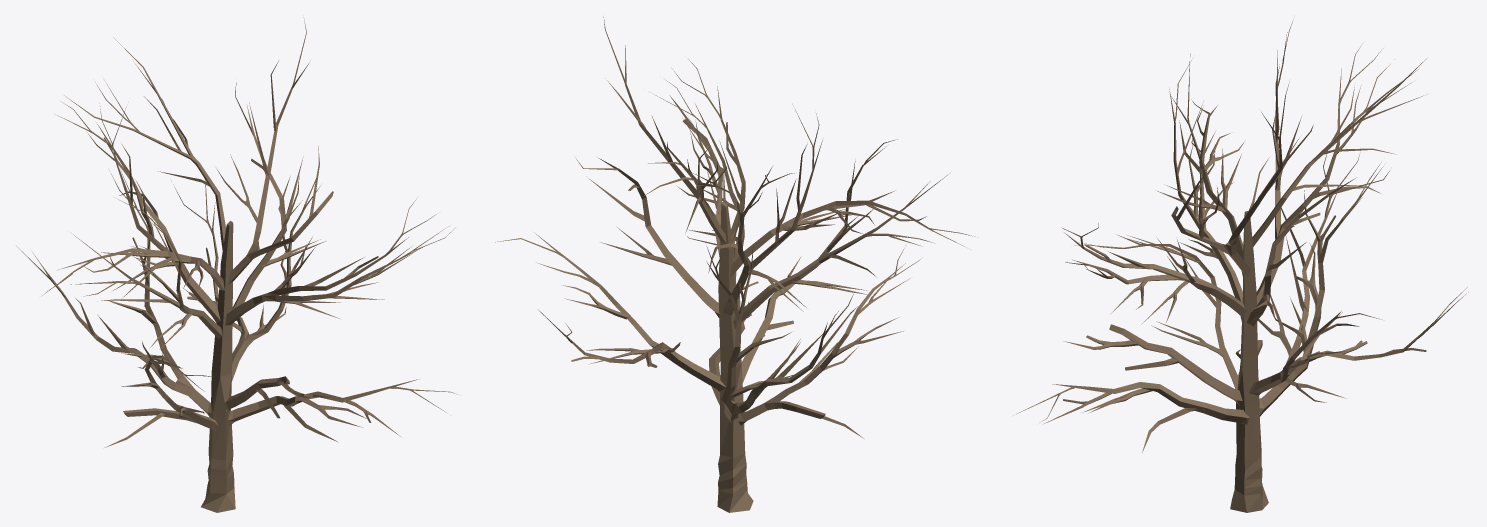
The model's file is tree_bare_a_1.FBX.
The picture shows the model from 3 angles, left to right: view 1: azimuth 30°, elevation 25°; view 2: azimuth 150°, elevation 25°; view 3: azimuth 270°, elevation 25°; orthographic projection. The views are drawn at different scales.
Parts seen in each view (by area): view 1: tree_bare_a_1; view 2: tree_bare_a_1; view 3: tree_bare_a_1.
Boxes of the visible parts, box(x1,y1,x2,y2) form: tree_bare_a_1: box(16, 17, 457, 512); tree_bare_a_1: box(495, 17, 975, 512); tree_bare_a_1: box(1016, 20, 1468, 512).
Size of the model in its own units: 7.66 by 8.95 by 7.81.
